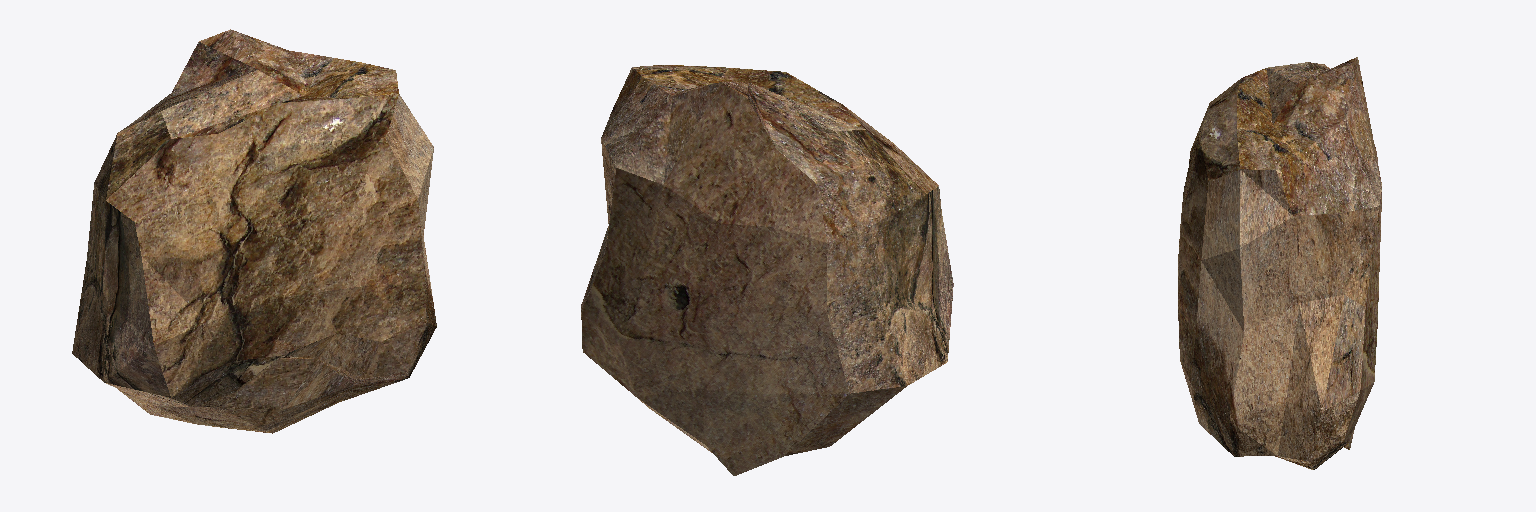
The picture shows the model from 3 angles: view 1: azimuth 30°, elevation 25°; view 2: azimuth 150°, elevation 25°; view 3: azimuth 270°, elevation 25°; orthographic projection.
Parts seen in each view (by area): view 1: object; view 2: object; view 3: object.
Boxes of the visible parts, box(x1,y1,x2,y2) form: object: box(72, 29, 436, 433); object: box(581, 65, 953, 475); object: box(1178, 57, 1381, 469).
Size of the model in its own units: 3.18 by 3.62 by 1.7.
1 materials, 1 textured.